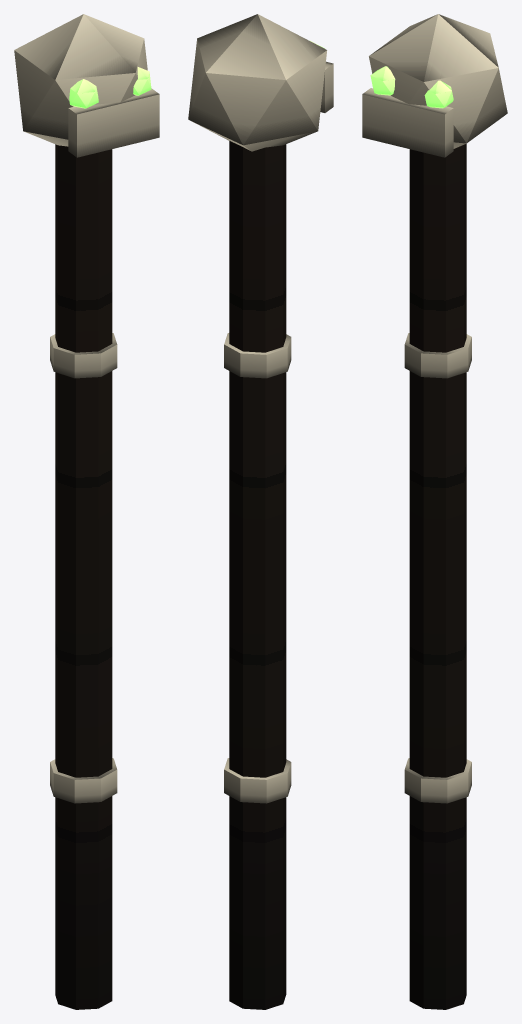
Rendered from skull_staff.gltf.
3 renders of one model, left to right at view 1: azimuth 30°, elevation 25°; view 2: azimuth 150°, elevation 25°; view 3: azimuth 330°, elevation 25°, orthographic.
Visible parts, largest first — view 1: skull_staff; view 2: skull_staff; view 3: skull_staff.
Boxes of the visible parts, x1=… form: skull_staff: x1=14, y1=14, x2=159, y2=1009; skull_staff: x1=188, y1=14, x2=333, y2=1009; skull_staff: x1=362, y1=14, x2=507, y2=1009.
Size of the model in its own units: 0.161 by 1.25 by 0.1566.
1 material, 1 textured.
